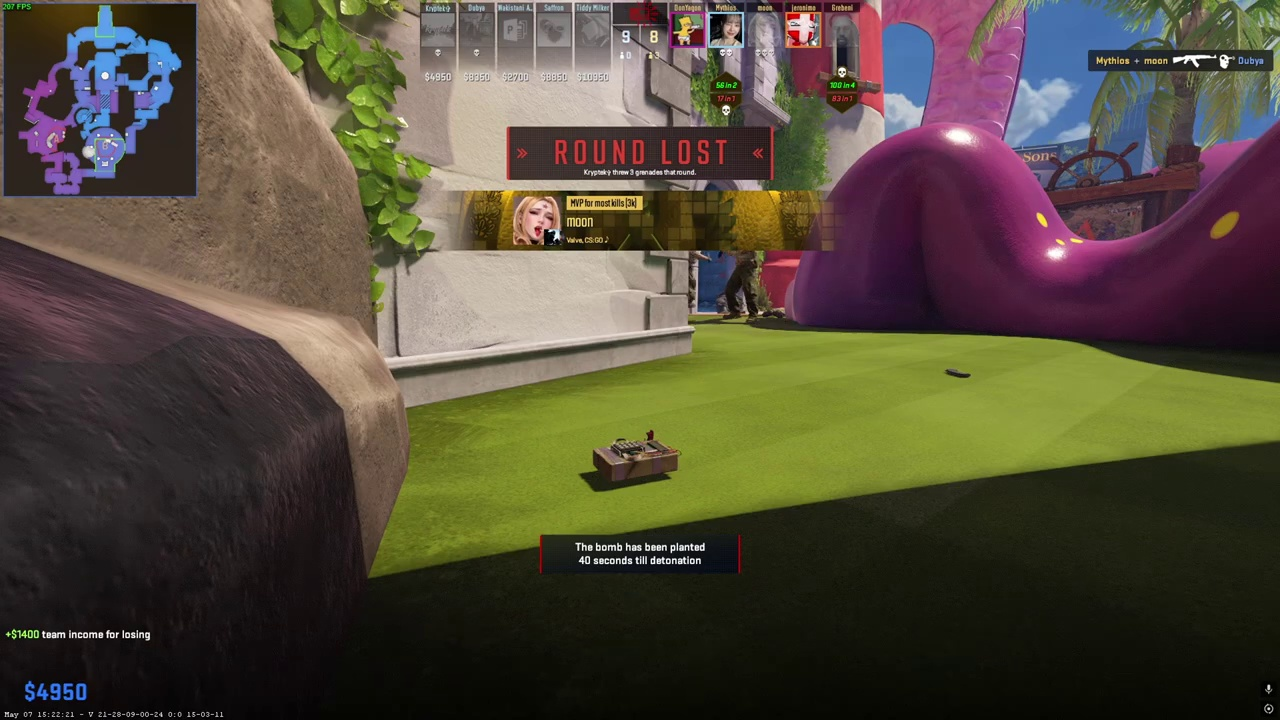Terrorist: (722, 245, 759, 321)
